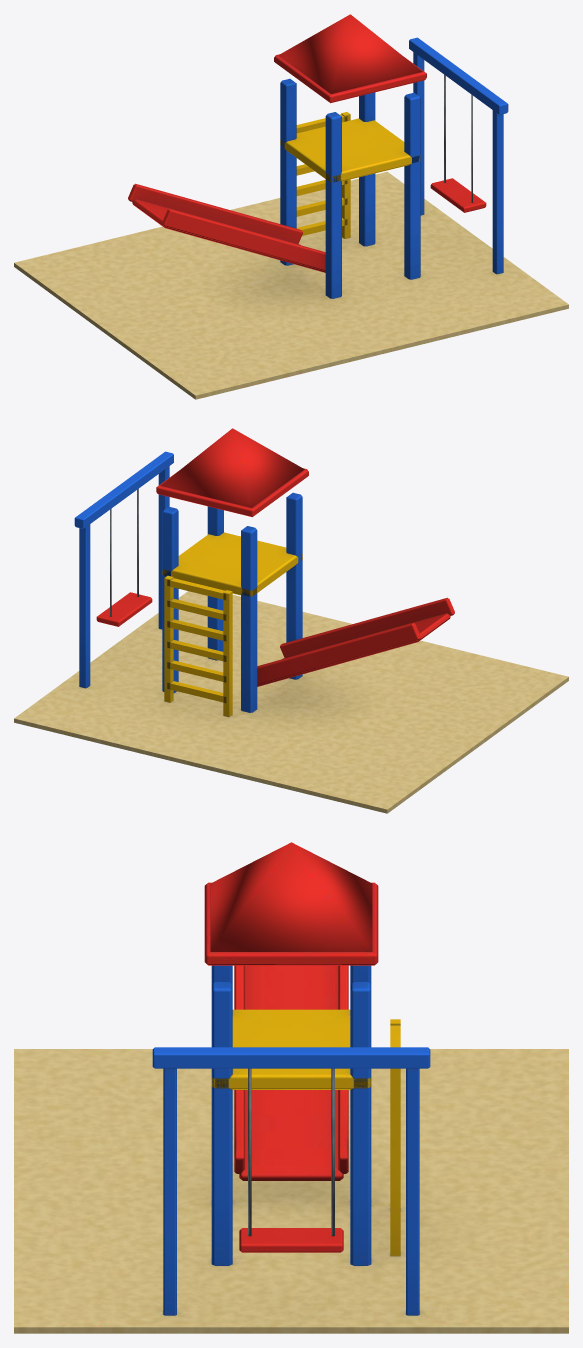
File: playground_slide.glb
3 renders of one model, top to bottom at view 1: azimuth 30°, elevation 25°; view 2: azimuth 150°, elevation 25°; view 3: azimuth 270°, elevation 25°, orthographic. The views are drawn at different scales.
Parts seen in each view (by area): view 1: playground_slide, swayY_swing; view 2: playground_slide, swayY_swing; view 3: playground_slide, swayY_swing.
Boxes of the visible parts, bbox=[...] form: playground_slide: bbox=[14, 14, 568, 399]; swayY_swing: bbox=[430, 74, 486, 212]; playground_slide: bbox=[14, 428, 568, 813]; swayY_swing: bbox=[96, 488, 152, 626]; playground_slide: bbox=[14, 842, 568, 1333]; swayY_swing: bbox=[239, 1068, 343, 1252].
Size of the model in its own units: 1.9 by 1.28 by 1.6.
Materials: 1 (1 with a texture image).
